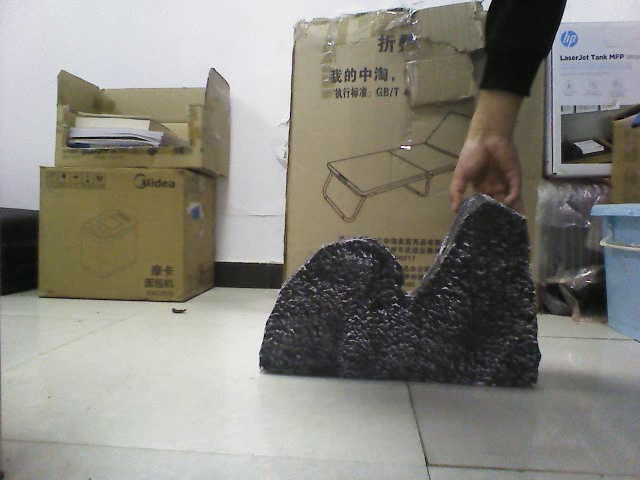rock: (260, 191, 544, 383)
